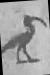G25: (2, 0, 48, 74)
